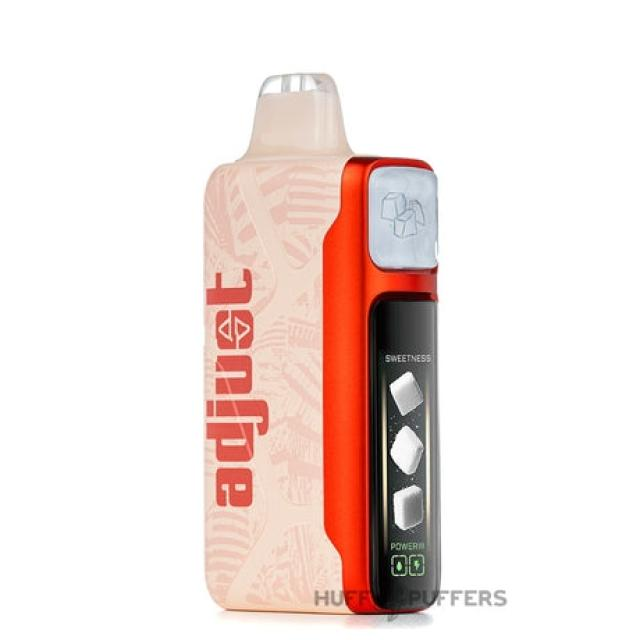Vapes: (200, 71, 442, 615)
